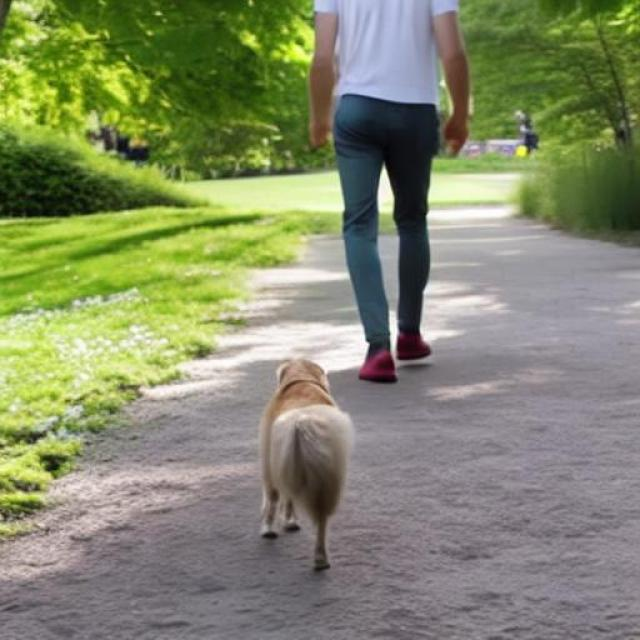Unleashed_Dog: (260, 104, 436, 572)
